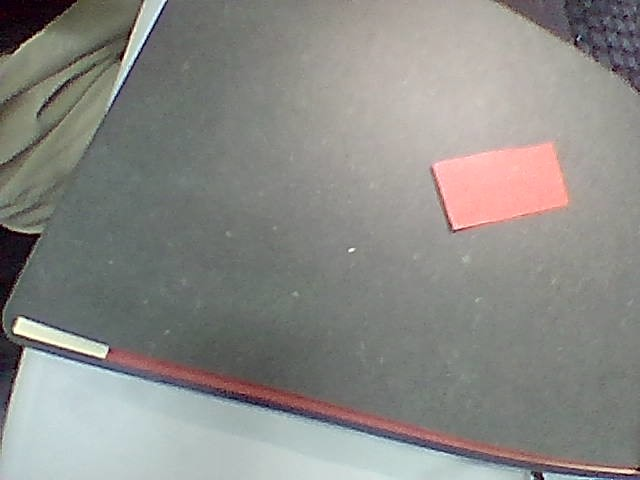card: (433, 143, 568, 231)
